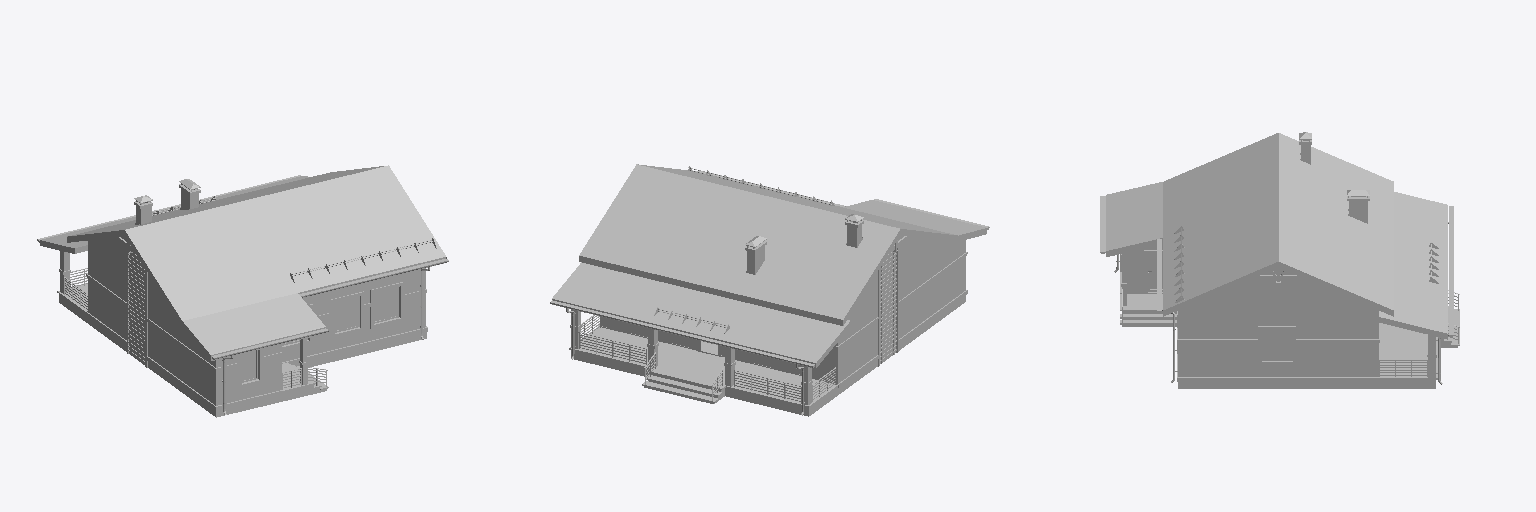
The model's file is Cottage_FREE4.obj.
3 views of the same model, side by side, from view 1: azimuth 30°, elevation 25°; view 2: azimuth 150°, elevation 25°; view 3: azimuth 270°, elevation 25° (orthographic).
Parts seen in each view (by area): view 1: Cottage_FREE3:Mesh; view 2: Cottage_FREE3:Mesh; view 3: Cottage_FREE3:Mesh.
Part boxes in pixels (bbox=[...]): Cottage_FREE3:Mesh: bbox=[37, 165, 448, 417]; Cottage_FREE3:Mesh: bbox=[550, 164, 989, 416]; Cottage_FREE3:Mesh: bbox=[1100, 132, 1459, 388].
Size of the model in its own units: 12.44 by 6.75 by 14.65.